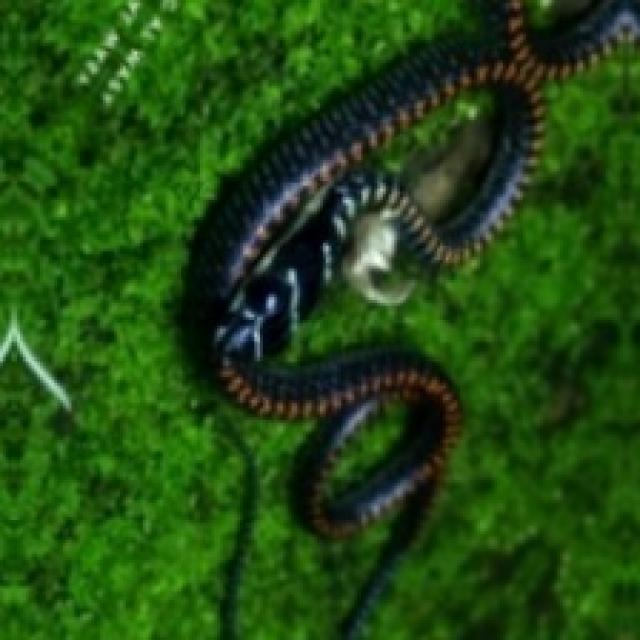paradise tree snake: (189, 0, 637, 531), (323, 391, 420, 497)
